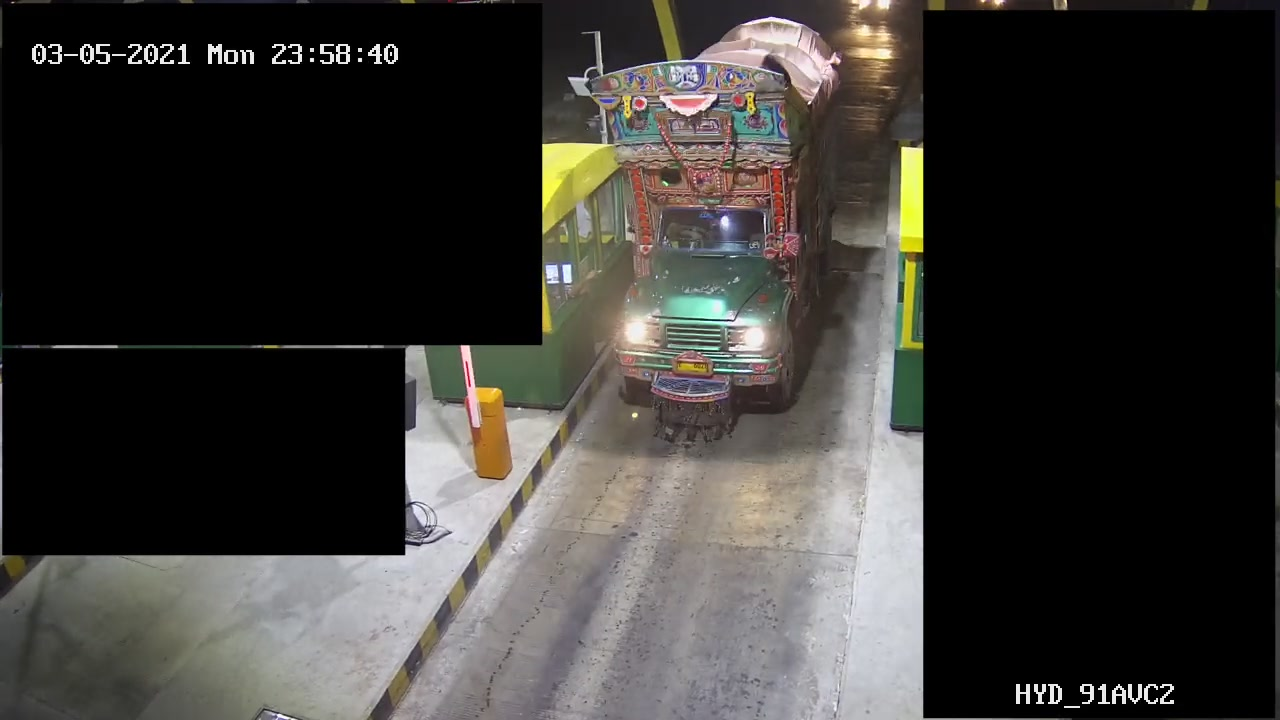F5: (589, 12, 849, 441)
